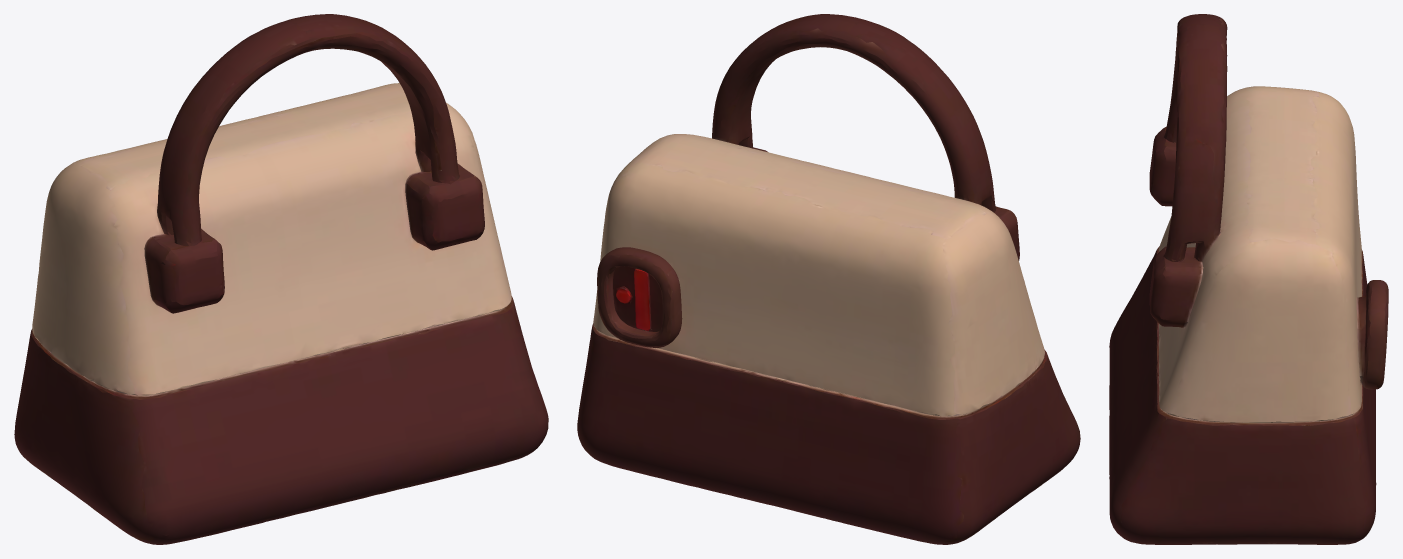
File: handbag.glb
3 views of the same model, side by side, from view 1: azimuth 30°, elevation 25°; view 2: azimuth 150°, elevation 25°; view 3: azimuth 270°, elevation 25° (orthographic). The views are drawn at different scales.
Parts seen in each view (by area): view 1: Mesh; view 2: Mesh; view 3: Mesh.
Boxes of the visible parts, x1,y1,x2,y2 form: Mesh: [14, 14, 548, 544]; Mesh: [577, 14, 1080, 544]; Mesh: [1109, 14, 1388, 544].
Size of the model in its own units: 0.985 by 1 by 0.5871.
1 material, 1 textured.
